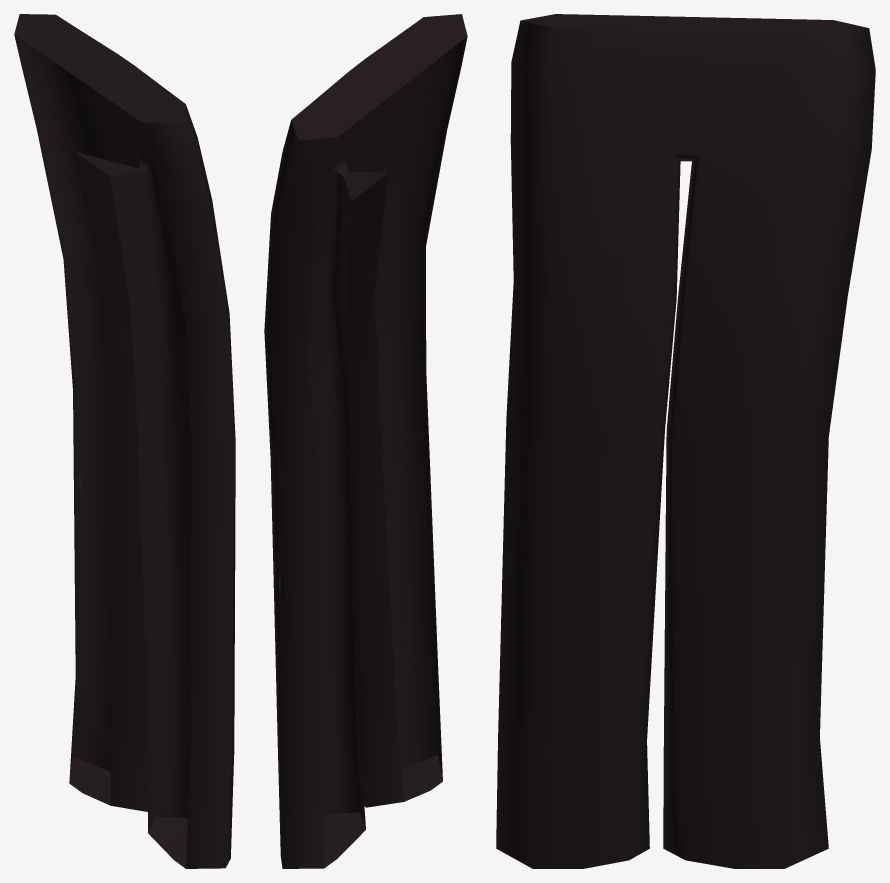
Rendered from Pants.fbx.
3 renders of one model, left to right at view 1: azimuth 30°, elevation 25°; view 2: azimuth 150°, elevation 25°; view 3: azimuth 270°, elevation 25°, orthographic. The views are drawn at different scales.
Parts seen in each view (by area): view 1: Pants; view 2: Pants; view 3: Pants.
Part boxes in pixels (x1,y1,x2,y2): Pants: (14, 14, 235, 868); Pants: (264, 14, 467, 868); Pants: (496, 14, 875, 868).
Size of the model in its own units: 12.29 by 99.3 by 41.57.
